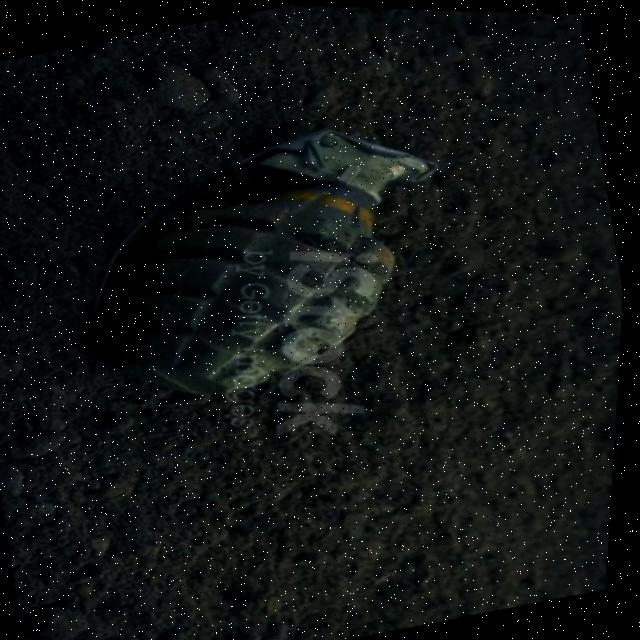grenade: (24, 49, 507, 474)
